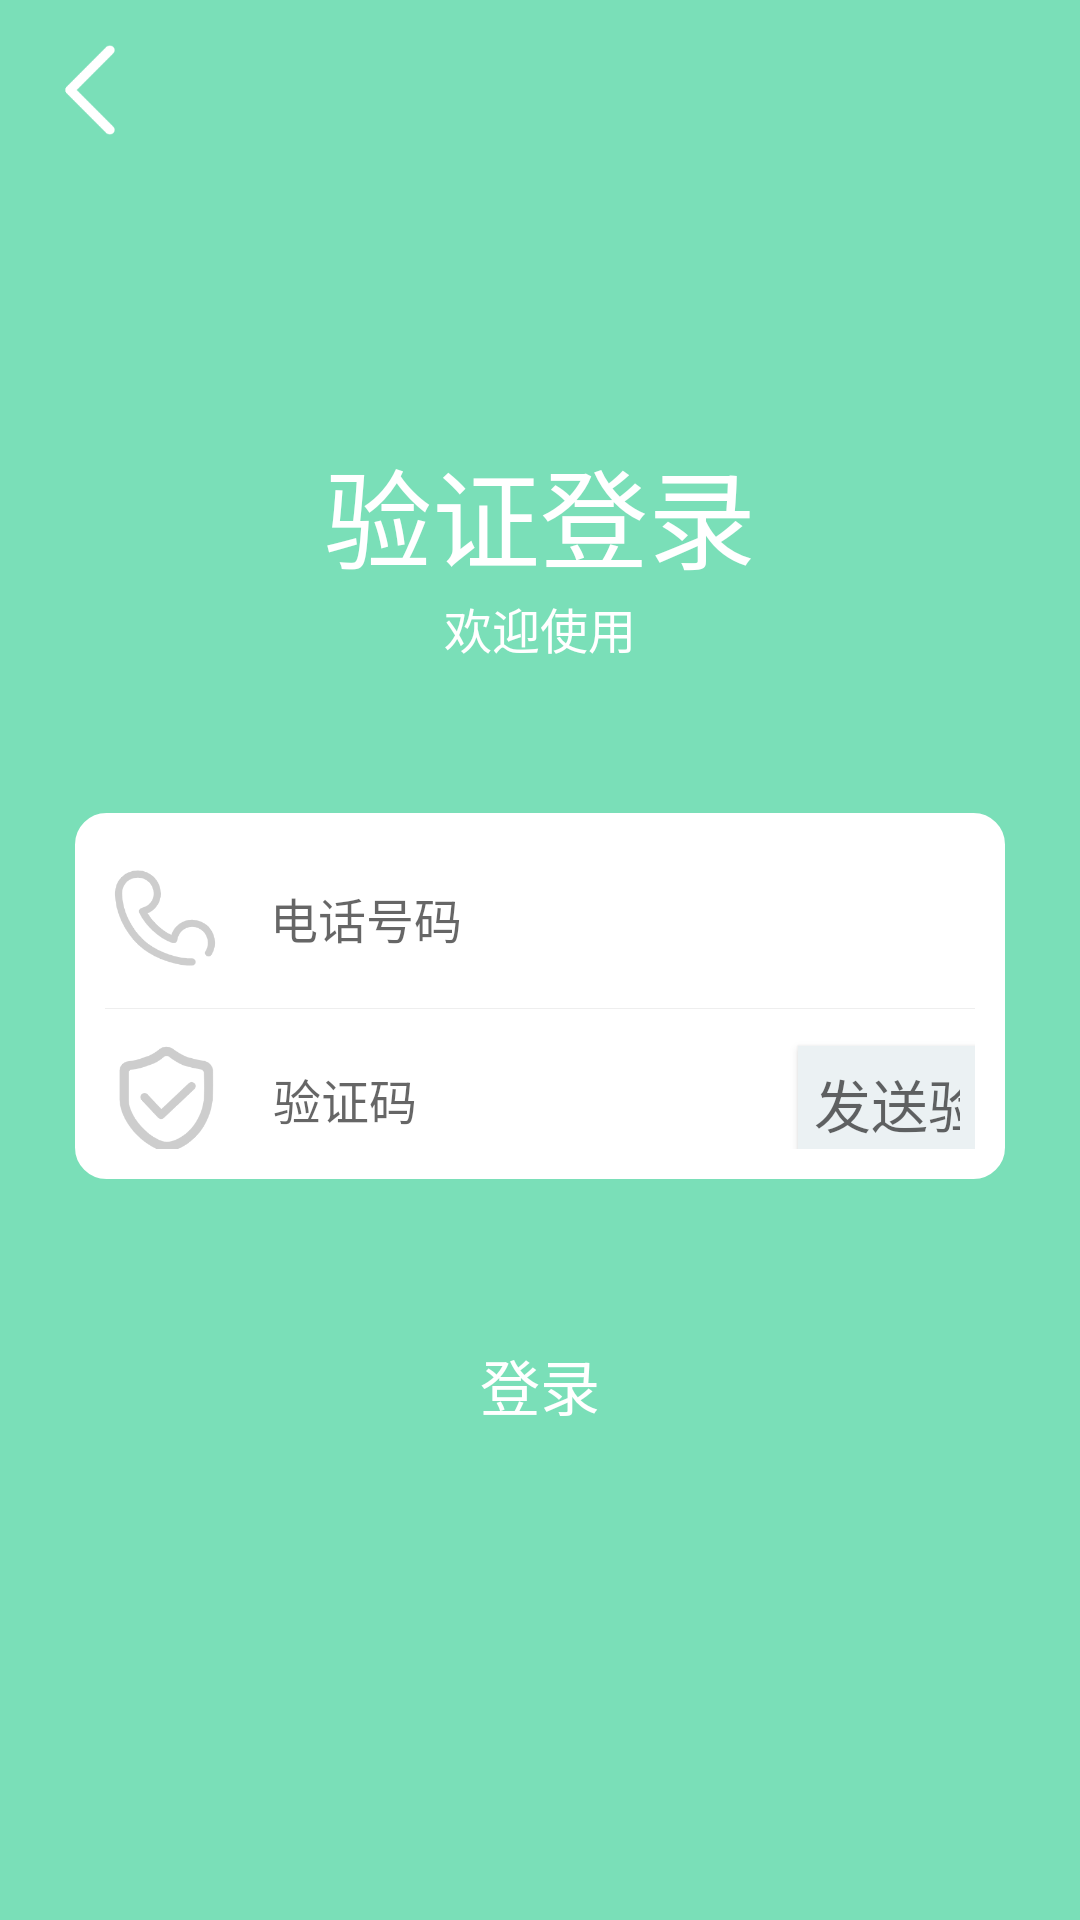

Icon bounding boxes for this 1080 × 1920 phone screenshot, format (x1, y1, x2, y2):
fanhu: (65, 45, 115, 135)
number: (115, 871, 215, 966)
vertify: (120, 1047, 213, 1149)
